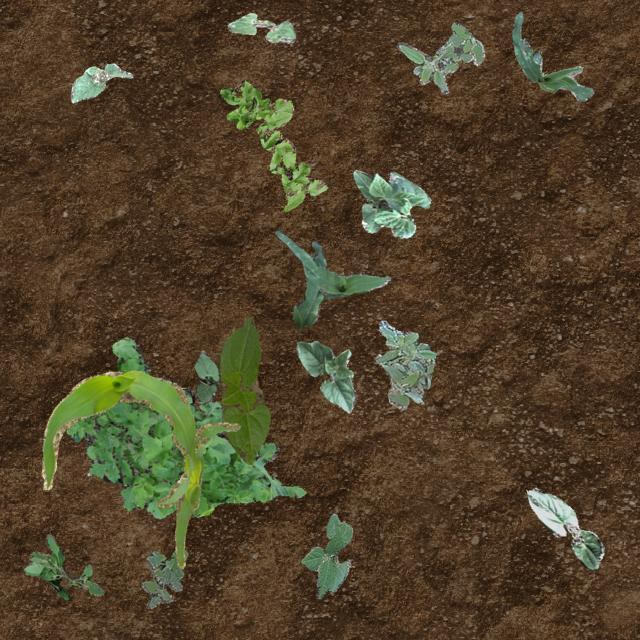crop: (41, 368, 240, 568), (274, 228, 390, 328), (214, 316, 268, 464), (510, 10, 592, 100), (526, 486, 604, 568), (352, 168, 429, 238), (300, 512, 352, 598), (296, 339, 356, 412), (70, 62, 132, 101), (227, 12, 294, 42), (192, 349, 218, 404)
weed: (66, 336, 304, 518), (218, 80, 326, 210), (396, 22, 484, 94), (374, 320, 436, 410), (22, 534, 102, 600), (140, 548, 187, 608)
